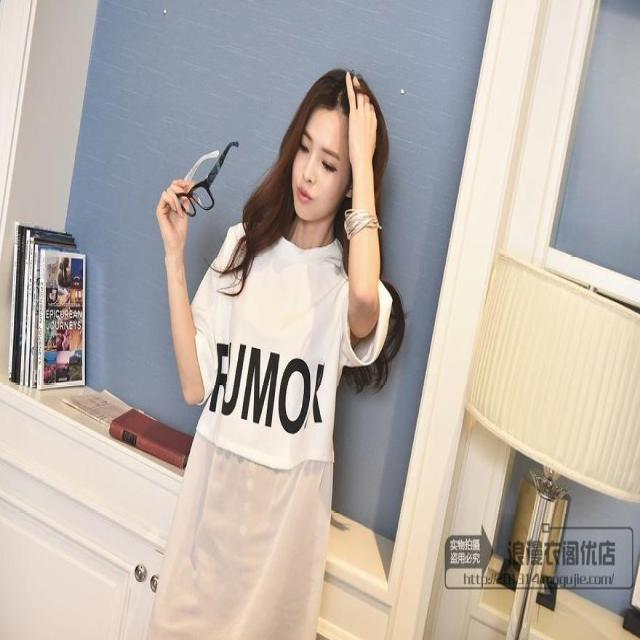short-sleeve-top: (184, 207, 423, 460)
